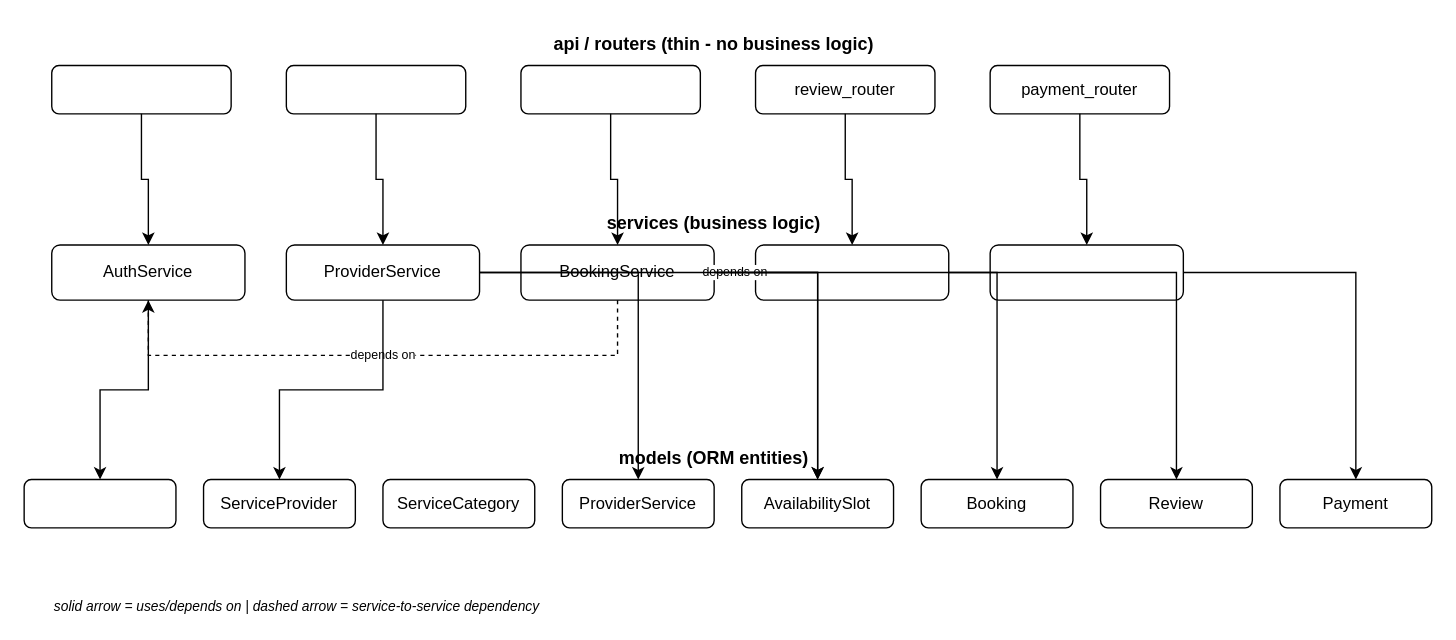
Image size: 1456x640. Some labels were removed from this diagram. The shapes that lost their labels are listed below. From the top down, each one's box as (x1, y1, x2, y2) in pixels, then its label:
(50, 64, 231, 114): auth_router
(285, 64, 466, 114): provider_router
(520, 64, 700, 114): booking_router
(754, 244, 949, 300): ReviewService
(989, 244, 1183, 300): PaymentService
(23, 478, 176, 528): User
